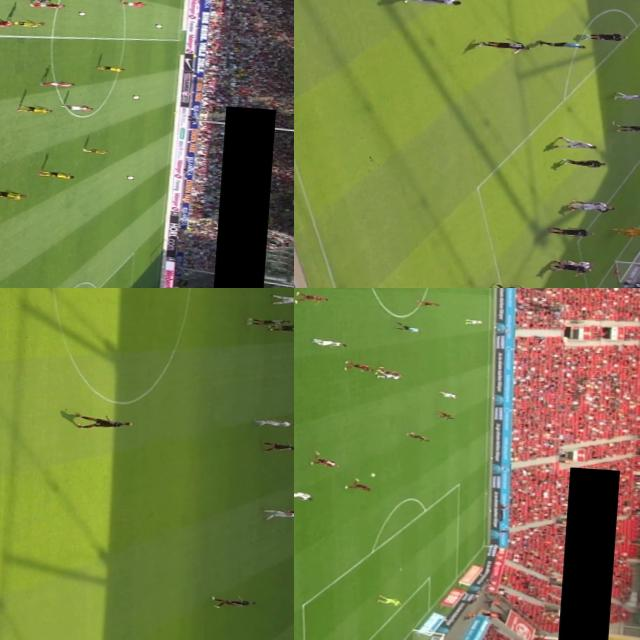ball: (365, 469, 379, 477), (154, 22, 162, 28), (78, 10, 86, 14), (132, 95, 138, 98), (128, 175, 134, 178)
player: (72, 413, 136, 430), (474, 36, 530, 52), (552, 135, 600, 152), (211, 594, 256, 609), (562, 154, 610, 168), (580, 30, 631, 42), (294, 288, 330, 305), (548, 224, 595, 237), (307, 451, 344, 467), (396, 0, 462, 8), (569, 200, 612, 212), (260, 506, 294, 521), (575, 200, 615, 212), (250, 316, 290, 328), (308, 337, 350, 348), (552, 261, 592, 272), (29, 0, 68, 11), (559, 258, 594, 270), (260, 440, 294, 452), (342, 479, 374, 491), (342, 360, 376, 371), (256, 417, 294, 426), (0, 188, 27, 200), (12, 18, 44, 28), (612, 226, 640, 237), (269, 321, 294, 333), (613, 90, 640, 101), (40, 170, 76, 178), (18, 104, 54, 112), (616, 121, 640, 133), (272, 291, 294, 304), (376, 366, 404, 376), (377, 595, 403, 605), (42, 79, 74, 87), (82, 147, 112, 155), (64, 103, 94, 111), (95, 63, 124, 71), (486, 283, 532, 288), (376, 371, 404, 379), (407, 432, 431, 441), (294, 489, 315, 499), (418, 298, 442, 306), (119, 0, 145, 7), (464, 316, 486, 324), (439, 390, 459, 398), (0, 16, 14, 27), (438, 411, 458, 418)
